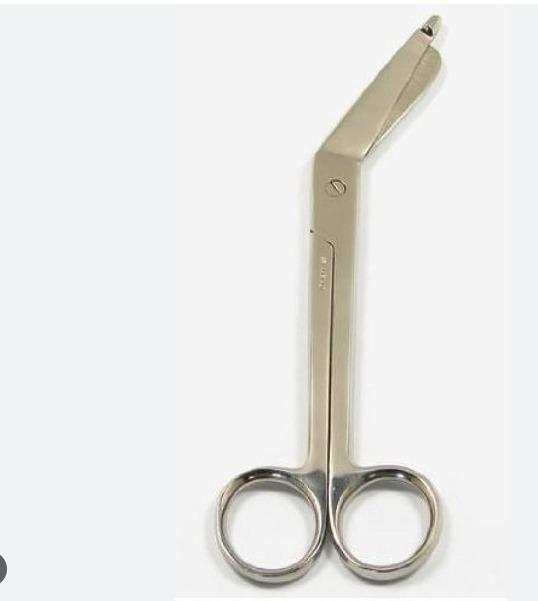Bandage Sciccors: (202, 9, 471, 590)
